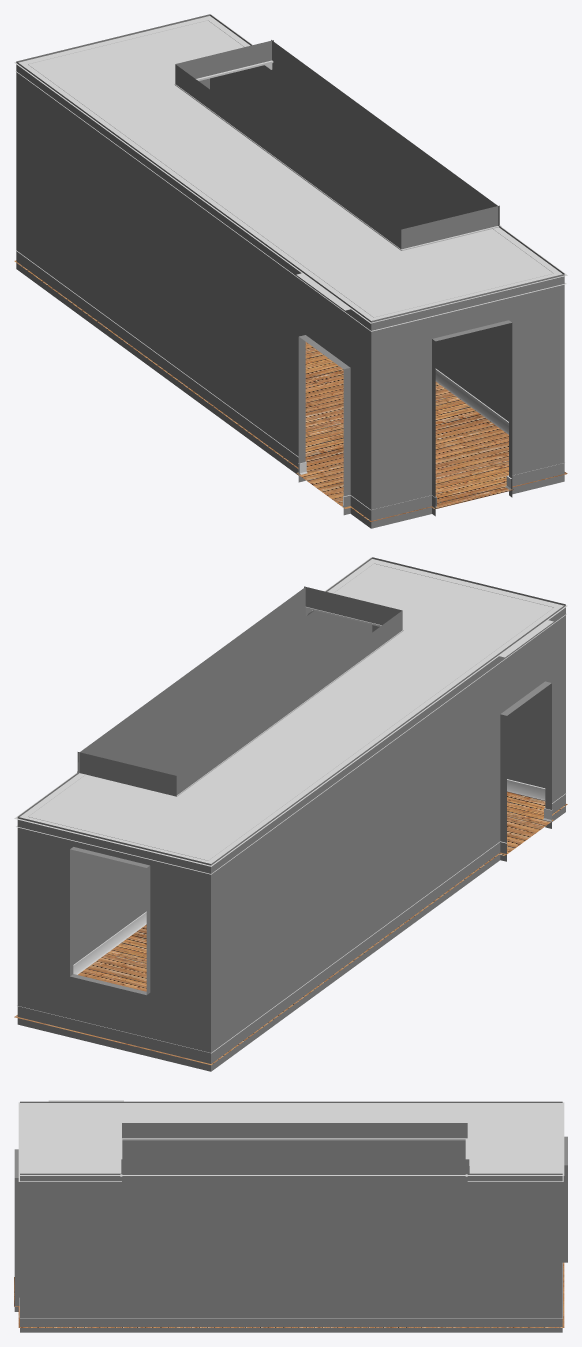
File: BUILDING_groundFloorStairwell_01.FBX
3 renders of one model, top to bottom at view 1: azimuth 30°, elevation 25°; view 2: azimuth 150°, elevation 25°; view 3: azimuth 270°, elevation 25°, orthographic. The views are drawn at different scales.
Parts seen in each view (by area): view 1: BUILDING_groundFloorStairwell_01_walls, BUILDING_groundFloorStairwell_01_ceiling, BUILDING_groundFloorStairwell_01_floor, BUILDING_groundFloorStairwell_01_plinthe, BUILDING_groundFloorStairwell_01_topEdge, BUILDING_groundFloorStairwell_01_stairsEdge; view 2: BUILDING_groundFloorStairwell_01_walls, BUILDING_groundFloorStairwell_01_ceiling, BUILDING_groundFloorStairwell_01_floor, BUILDING_groundFloorStairwell_01_plinthe, BUILDING_groundFloorStairwell_01_topEdge, BUILDING_groundFloorStairwell_01_stairsEdge; view 3: BUILDING_groundFloorStairwell_01_walls, BUILDING_groundFloorStairwell_01_ceiling, BUILDING_groundFloorStairwell_01_stairsEdge, BUILDING_groundFloorStairwell_01_floor, BUILDING_groundFloorStairwell_01_plinthe.
Boxes of the visible parts, <box> form: BUILDING_groundFloorStairwell_01_walls: <box>16,14,564,528</box>; BUILDING_groundFloorStairwell_01_ceiling: <box>14,14,567,323</box>; BUILDING_groundFloorStairwell_01_floor: <box>14,260,567,521</box>; BUILDING_groundFloorStairwell_01_plinthe: <box>16,250,564,509</box>; BUILDING_groundFloorStairwell_01_topEdge: <box>15,20,566,331</box>; BUILDING_groundFloorStairwell_01_stairsEdge: <box>174,60,501,250</box>; BUILDING_groundFloorStairwell_01_walls: <box>17,557,565,1071</box>; BUILDING_groundFloorStairwell_01_ceiling: <box>14,557,567,866</box>; BUILDING_groundFloorStairwell_01_floor: <box>14,791,567,1065</box>; BUILDING_groundFloorStairwell_01_plinthe: <box>17,779,566,1053</box>; BUILDING_groundFloorStairwell_01_topEdge: <box>16,563,566,874</box>; BUILDING_groundFloorStairwell_01_stairsEdge: <box>77,607,403,796</box>; BUILDING_groundFloorStairwell_01_walls: <box>14,1101,567,1332</box>; BUILDING_groundFloorStairwell_01_ceiling: <box>18,1100,564,1175</box>; BUILDING_groundFloorStairwell_01_stairsEdge: <box>120,1138,467,1176</box>; BUILDING_groundFloorStairwell_01_floor: <box>14,1262,564,1327</box>; BUILDING_groundFloorStairwell_01_plinthe: <box>19,1263,562,1318</box>.
Bounding box in the file's own units: 4.39 × 4.68 × 13.53.
2 materials, 1 textured.
